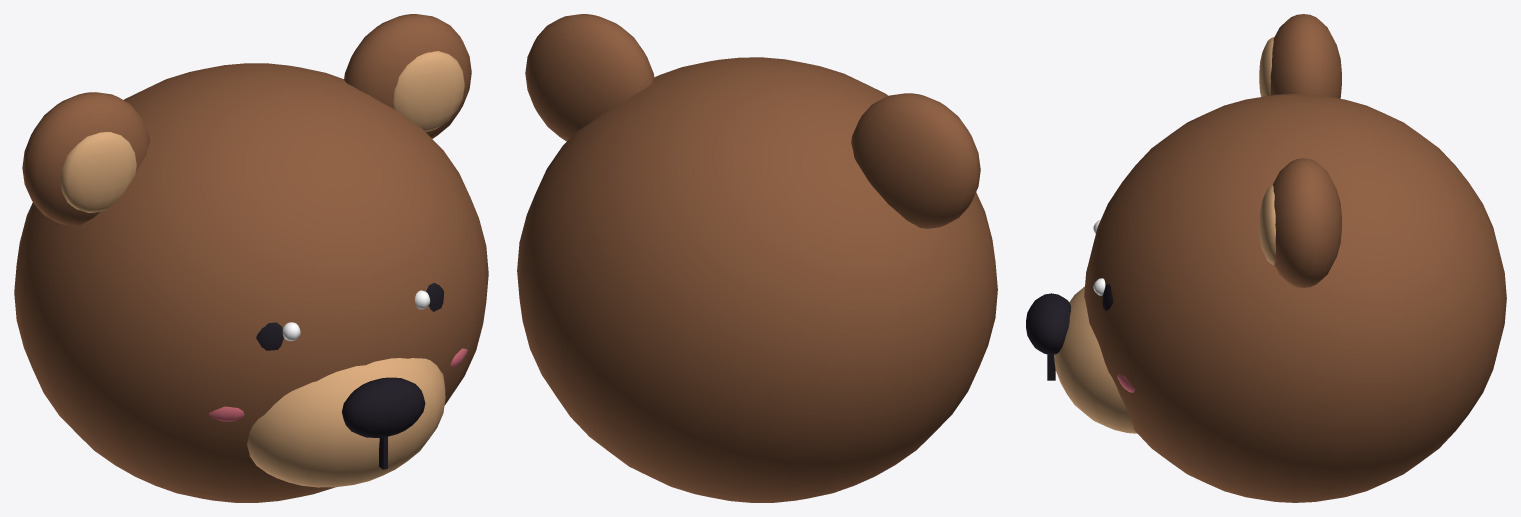
File: head_bear.glb
The picture shows the model from 3 angles, left to right: view 1: azimuth 30°, elevation 25°; view 2: azimuth 150°, elevation 25°; view 3: azimuth 270°, elevation 25°; orthographic projection. The views are drawn at different scales.
Bounding box in the file's own units: 1.16 × 1.05 × 1.18.
